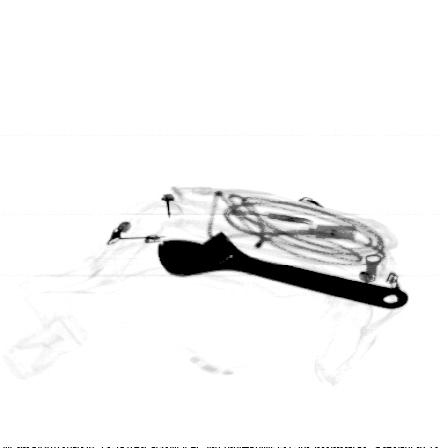Wrench: (156, 229, 412, 312)
